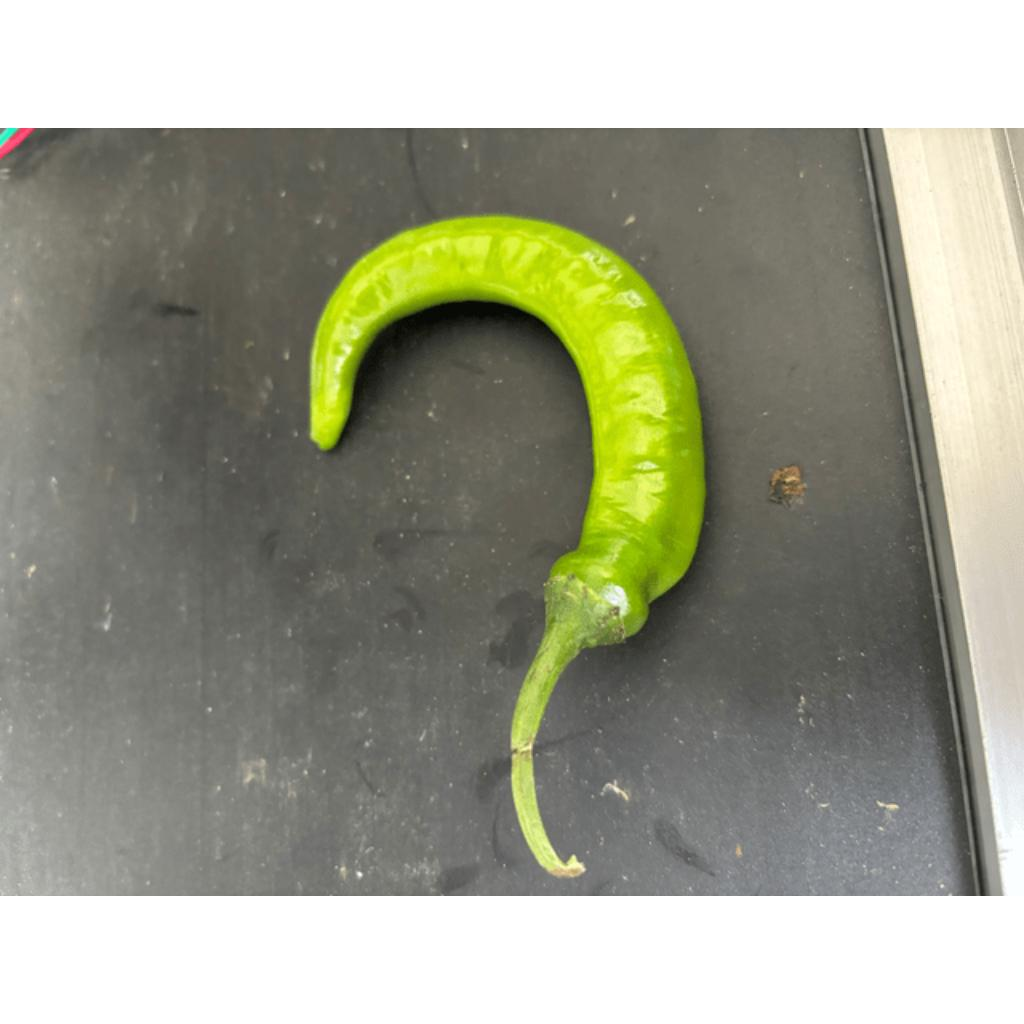chili: (305, 211, 708, 655)
